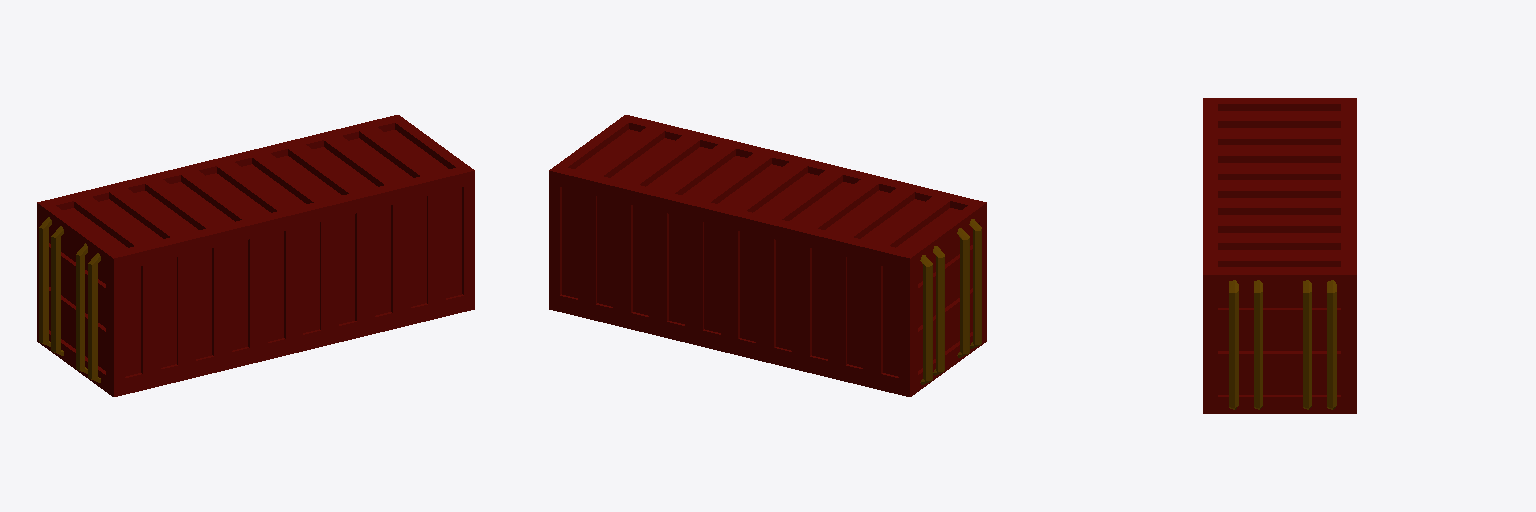
Rendered from Container_01.obj.
3 renders of one model, left to right at view 1: azimuth 30°, elevation 25°; view 2: azimuth 150°, elevation 25°; view 3: azimuth 270°, elevation 25°, orthographic.
Visible parts, largest first — view 1: Container_01_Cylinder.016; view 2: Container_01_Cylinder.016; view 3: Container_01_Cylinder.016.
Boxes of the visible parts, <box> form: Container_01_Cylinder.016: <box>37,115,474,396</box>; Container_01_Cylinder.016: <box>549,115,986,396</box>; Container_01_Cylinder.016: <box>1203,98,1356,413</box>.
Bounding box in the file's own units: 17.92 × 6.25 × 6.25.